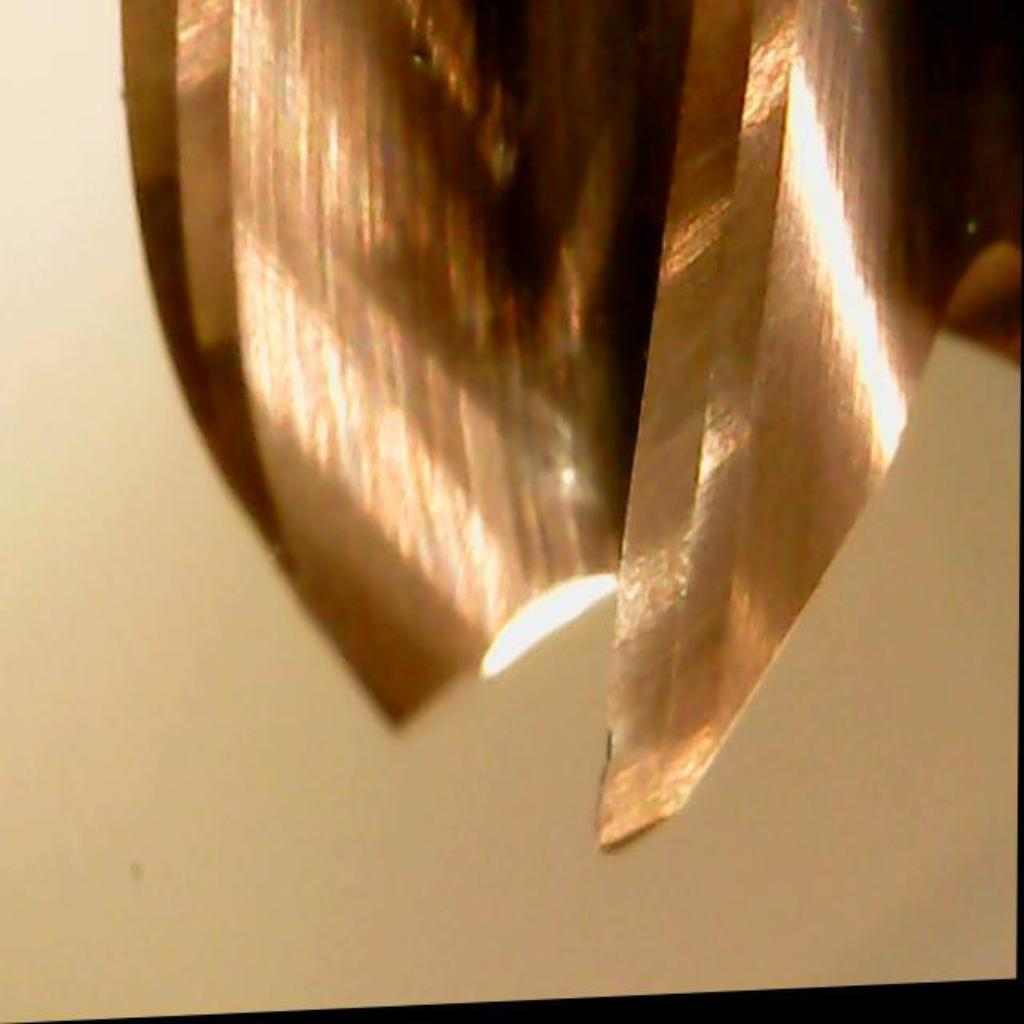Tool-wear-class-1: (572, 573, 759, 868)
